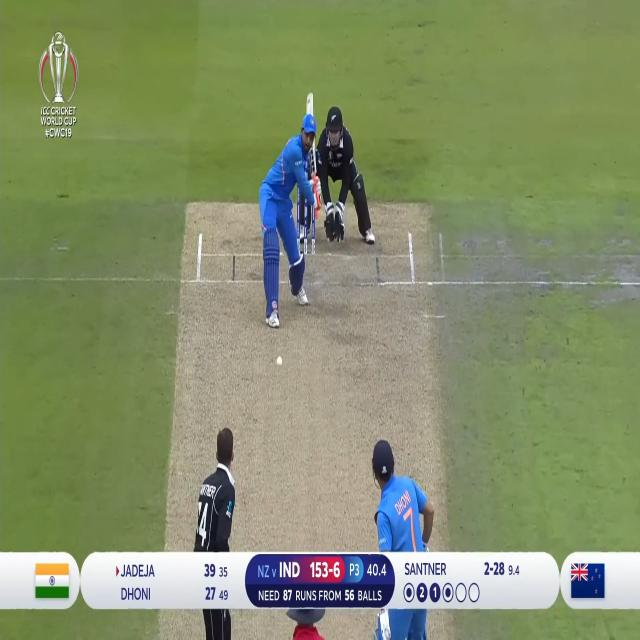ball: (274, 351, 286, 370)
